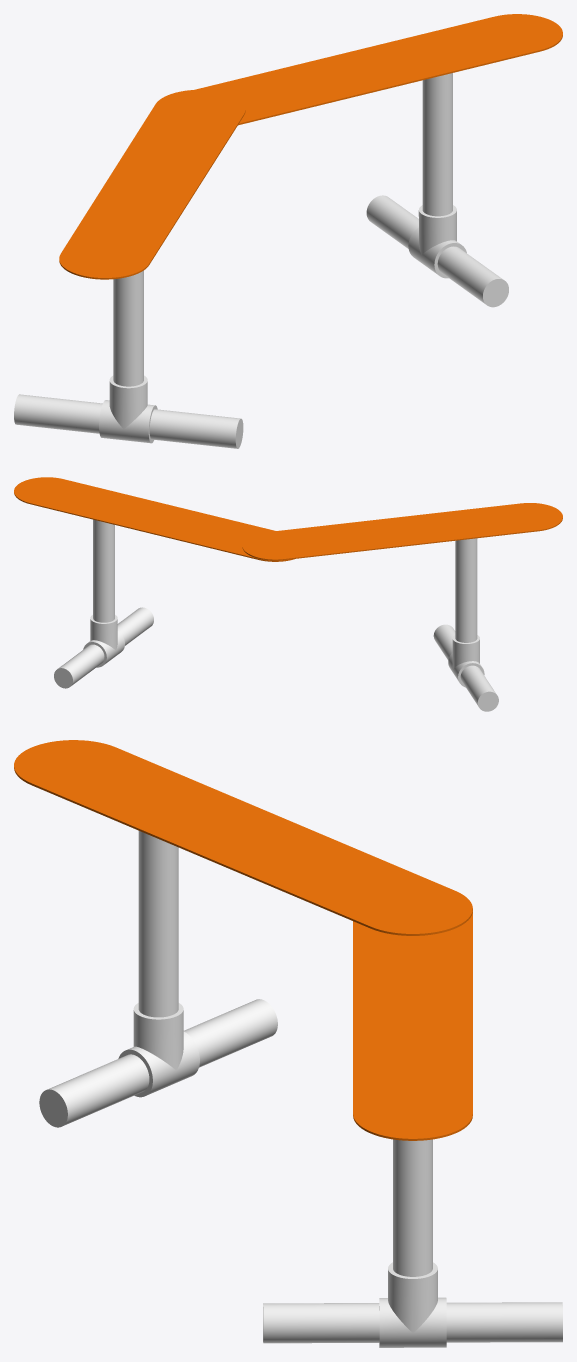
File: lane_marker_45left (1).dae
3 renders of one model, top to bottom at view 1: azimuth 30°, elevation 25°; view 2: azimuth 150°, elevation 25°; view 3: azimuth 270°, elevation 25°, orthographic. The views are drawn at different scales.
Parts seen in each view (by area): view 1: to_marker, from_marker, to_foot, from_leg, from_foot, to_leg, to_T_joint, from_T_joint; view 2: to_marker, from_marker, to_leg, from_leg, from_foot, to_foot, from_T_joint, to_T_joint; view 3: to_marker, from_marker, from_foot, to_foot, to_leg, from_leg, from_T_joint, to_T_joint.
Boxes of the visible parts, x1,y1,x2,y2 form: to_marker: (59,89,245,279); from_marker: (194,14,562,125); to_foot: (14,394,243,448); from_leg: (422,73,452,216); from_foot: (366,195,508,307); to_leg: (113,270,143,386); to_T_joint: (99,375,157,443); from_T_joint: (408,205,466,278); to_marker: (242,503,562,560); from_marker: (14,477,294,561); to_leg: (455,538,477,642); from_leg: (93,519,114,622); from_foot: (54,607,153,688); to_foot: (433,624,498,711); from_T_joint: (83,615,124,667); to_T_joint: (448,635,484,687); to_marker: (14,740,472,935); from_marker: (353,911,472,1140); from_foot: (263,1302,562,1343); to_foot: (39,999,277,1127); to_leg: (138,831,178,1017); from_leg: (393,1139,432,1276); from_T_joint: (379,1262,446,1347); to_T_joint: (118,1003,199,1097).
Bounding box in the file's own units: 1.19 × 0.6979 × 0.3994.
